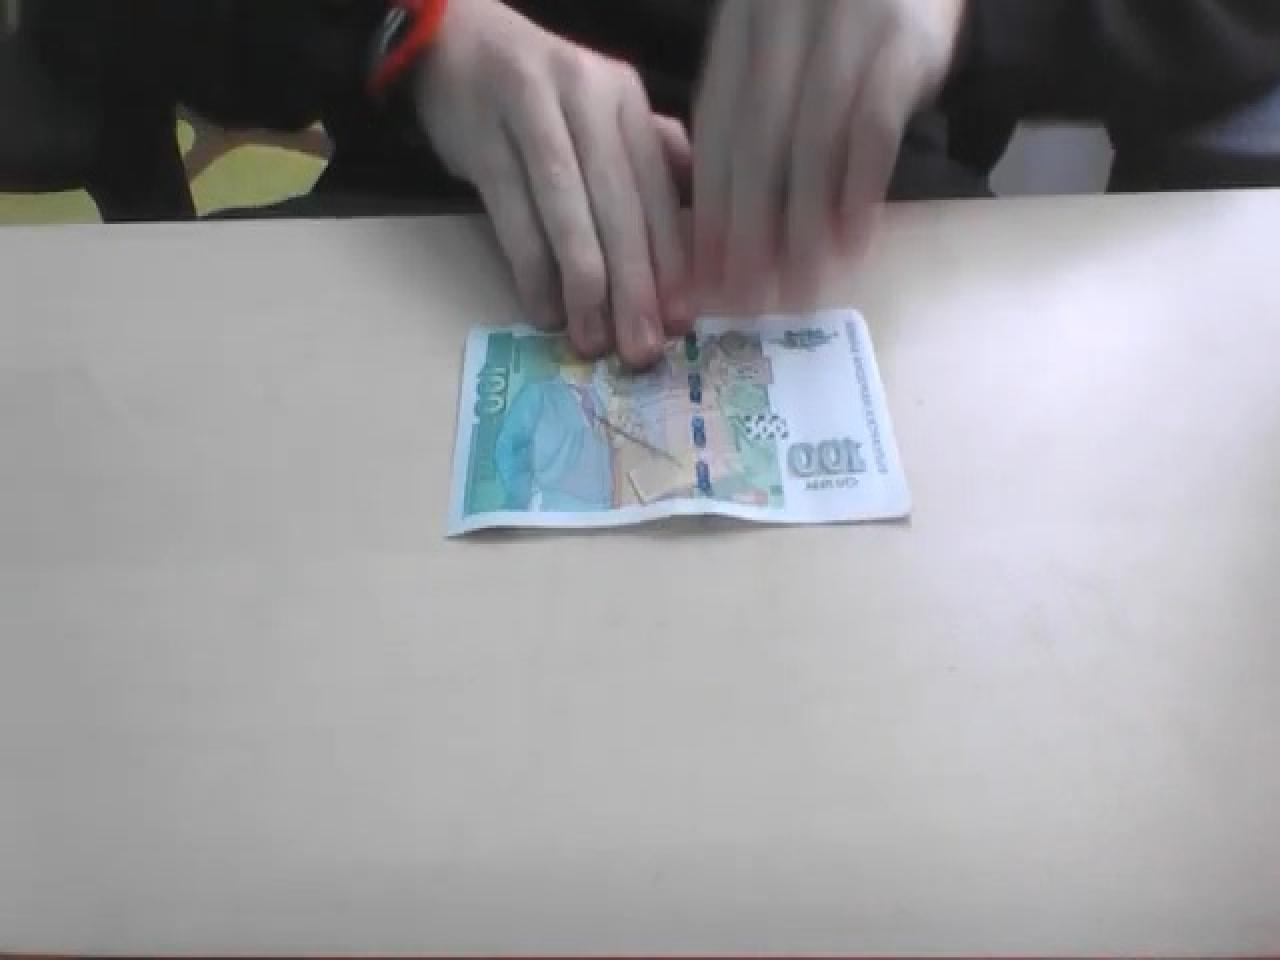100leva: (442, 310, 914, 544)
